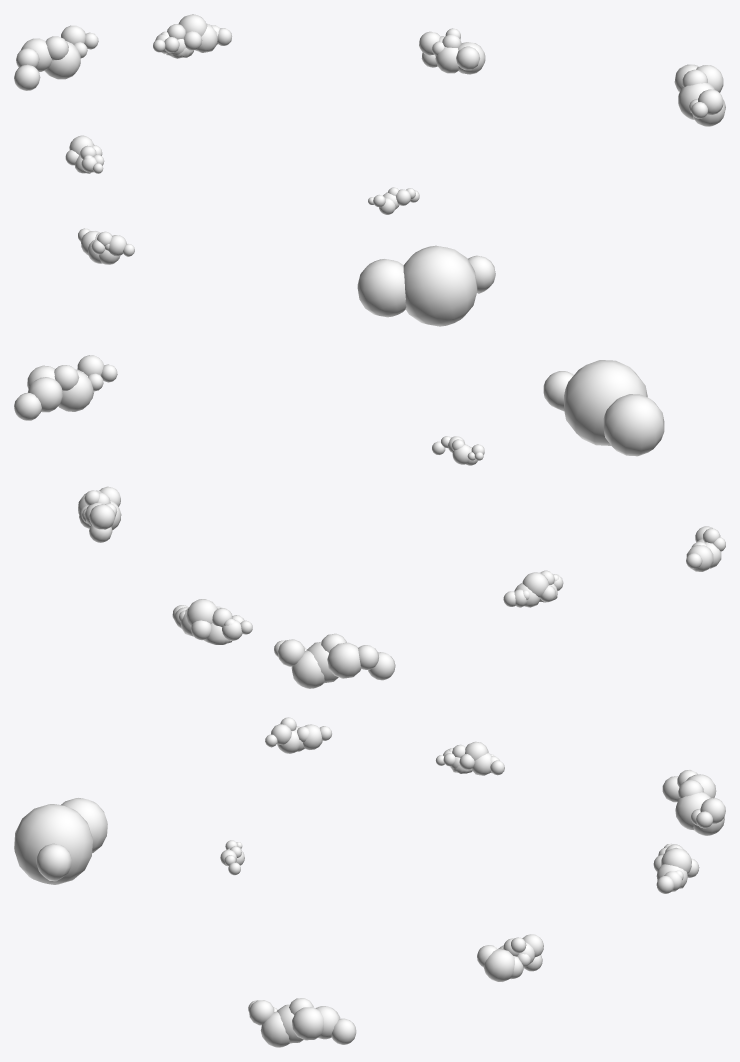
The model's file is clouds_small2.glb.
The picture shows the model from 3 angles, top to bottom: view 1: azimuth 30°, elevation 25°; view 2: azimuth 150°, elevation 25°; view 3: azimuth 270°, elevation 25°; orthographic projection. The views are drawn at different scales.
Parts seen in each view (by area): view 1: clouds_small_2; view 2: clouds_small_2; view 3: clouds_small_2.
Boxes of the visible parts, box(x1,y1,x2,y2) form: clouds_small_2: box(14, 14, 725, 326); clouds_small_2: box(14, 355, 725, 688); clouds_small_2: box(14, 717, 725, 1047).
Bounding box in the file's own units: 26.18 × 2.88 × 25.19.
1 material, 1 textured.
